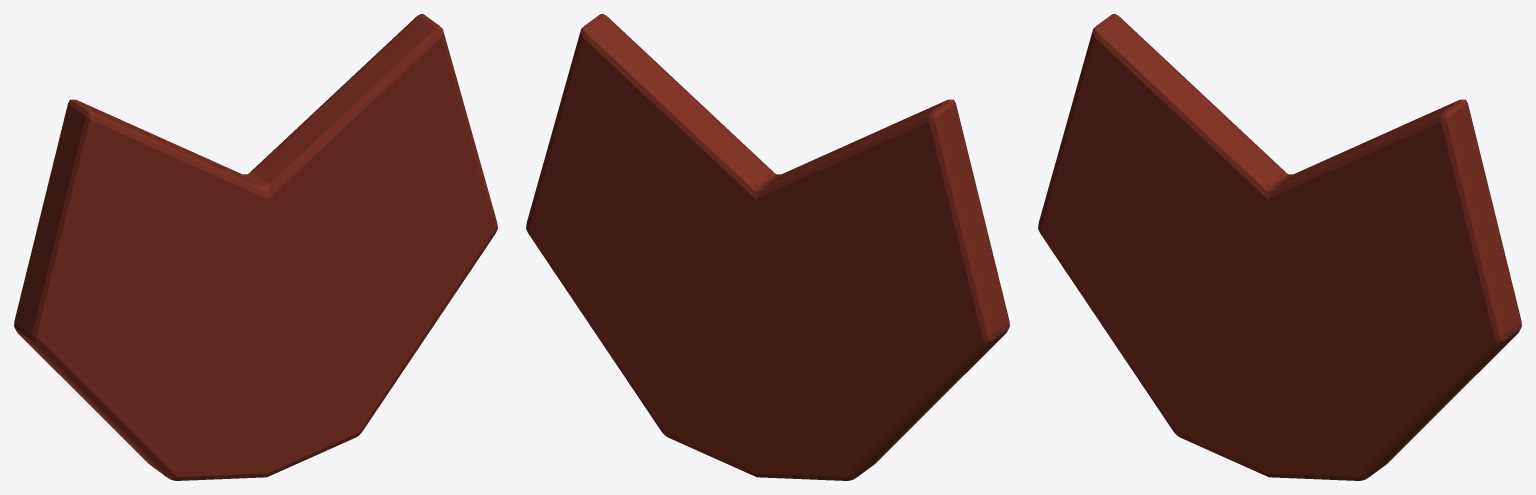
File: pelte_light_shield_LOD1.glb
3 views of the same model, side by side, from view 1: azimuth 30°, elevation 25°; view 2: azimuth 150°, elevation 25°; view 3: azimuth 330°, elevation 25° (orthographic).
Parts seen in each view (by area): view 1: LOD1_Pelte; view 2: LOD1_Pelte; view 3: LOD1_Pelte.
Part boxes in pixels (box(x1,y1,x2,y2)): LOD1_Pelte: box(14, 14, 497, 480); LOD1_Pelte: box(526, 14, 1009, 480); LOD1_Pelte: box(1038, 14, 1521, 480).
Size of the model in its own units: 0.8946 by 0.7499 by 0.08.
